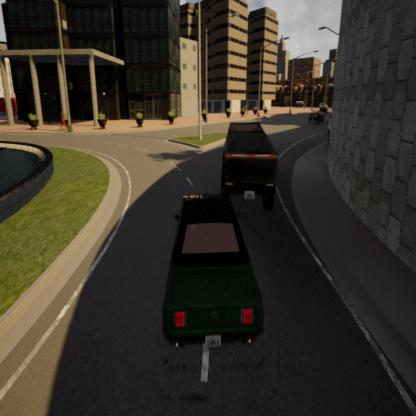Cars: (156, 172, 278, 366), (211, 108, 287, 215), (299, 97, 330, 133)
Pedestrian: (56, 101, 72, 137)
